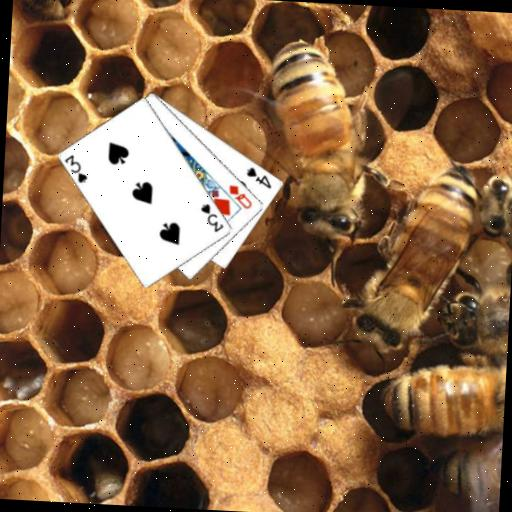3S: (61, 152, 91, 186), (197, 201, 226, 234)
4S: (243, 163, 274, 190)
QD: (225, 182, 255, 211)
